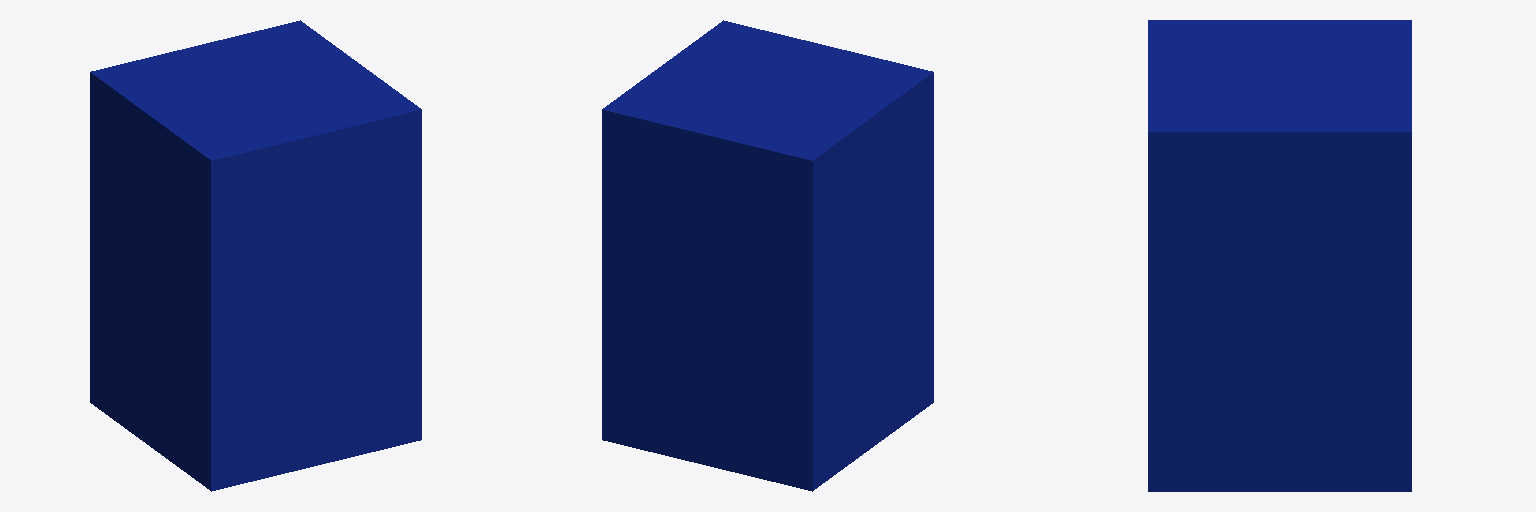
robot.urdf — block:
<robot name="block">
  <link name="block_base_link">
    <inertial>
      <origin rpy="0 0 0" xyz="-0.07 0.07 0.015"/>
      <mass value="0.5"/>
      <inertia ixx="1.3e-06" ixy="0.0" ixz="0.0" iyy="1.3e-06" iyz="0.0" izz="8e-07"/>
    </inertial>
    <collision>
      
      <geometry>
        <mesh filename="1.STL" scale="1 1 1"/>
      </geometry>
    </collision>
    <visual>
 
      <geometry>
        <mesh filename="1.STL" scale="1 1 1"/>
      </geometry>
      <material name="tray_material">
        <color rgba="0.1 0.2 0.6 1"/>
      </material>
    </visual>
  </link>
</robot>

--- Render facts (derived) ---
3 views of the same robot in one strip: view 1: azimuth 30°, elevation 25°; view 2: azimuth 150°, elevation 25°; view 3: azimuth 270°, elevation 25° (orthographic).
Model block with 1 links and 0 joints (none), rooted at block_base_link, posed all joints at 0.
Links seen in each view (by area): view 1: block_base_link; view 2: block_base_link; view 3: block_base_link.
Boxes of the visible links, <box> form: block_base_link: <box>90,20,421,491</box>; block_base_link: <box>602,20,933,491</box>; block_base_link: <box>1148,20,1411,491</box>.
Bounding box of the posed robot: 0.02 × 0.02 × 0.03 m (x, y, z).
1 mesh visuals loaded from 1 distinct referenced files (1 binary STL).